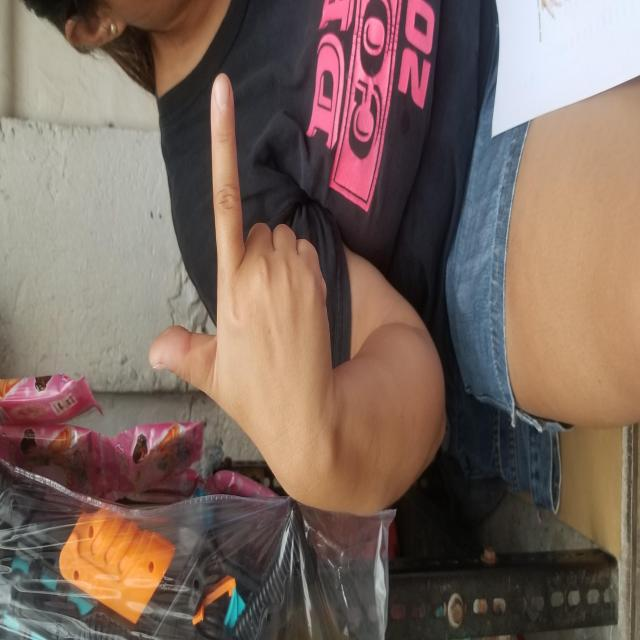G: (188, 148, 569, 334)
